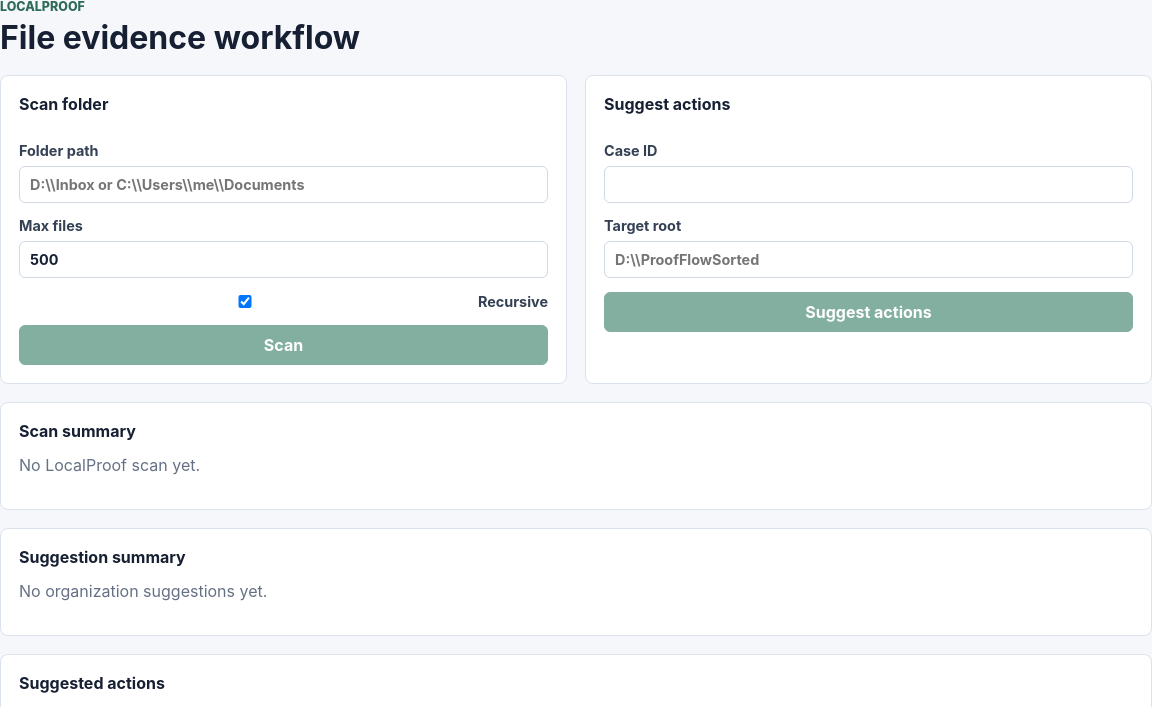
LocalProof › does not offer undo for executed manual check actions
Type "D:/inbox" into the field labelled "Folder path" at [284, 184], box [19, 166, 548, 203]
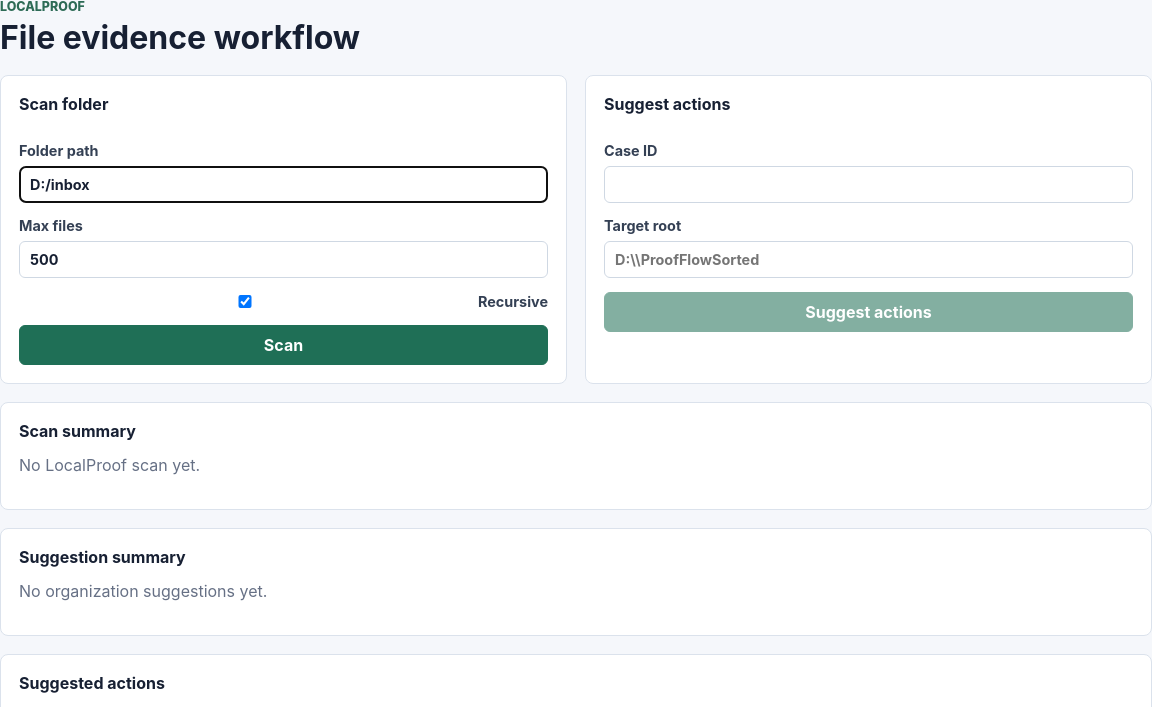
Click the button "Scan" at [284, 345], box [19, 325, 548, 365]
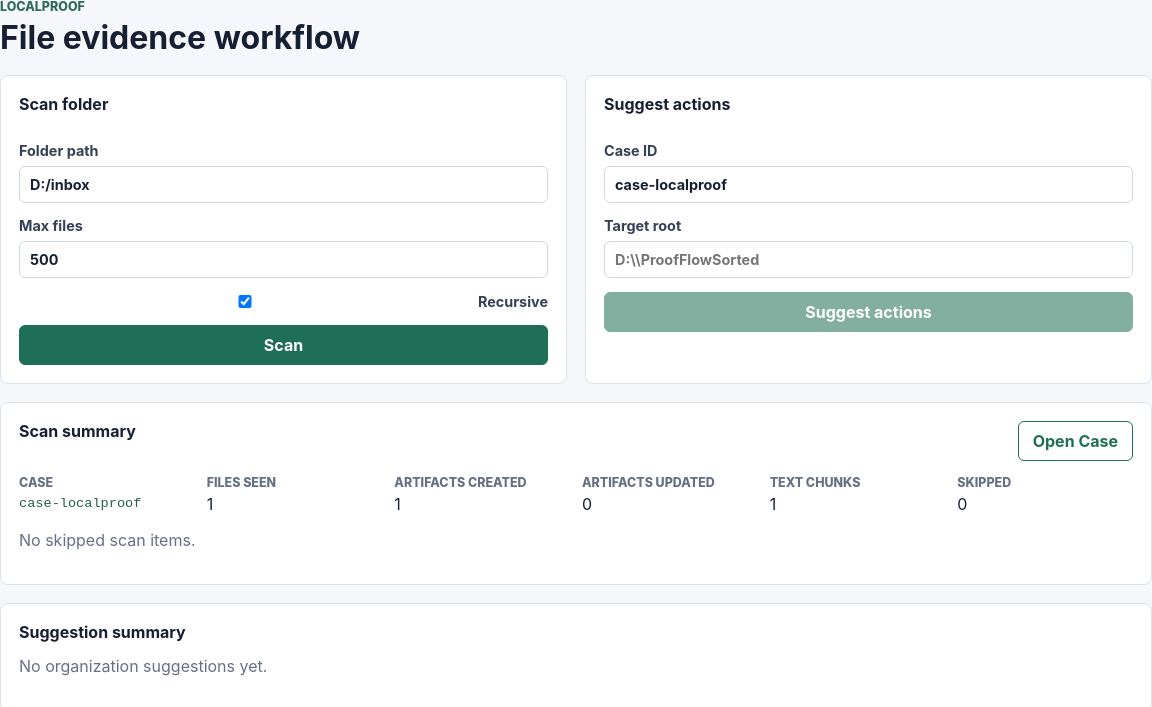
Type "D:/sorted" into the field labelled "Target root" at [868, 259], box [604, 241, 1133, 278]
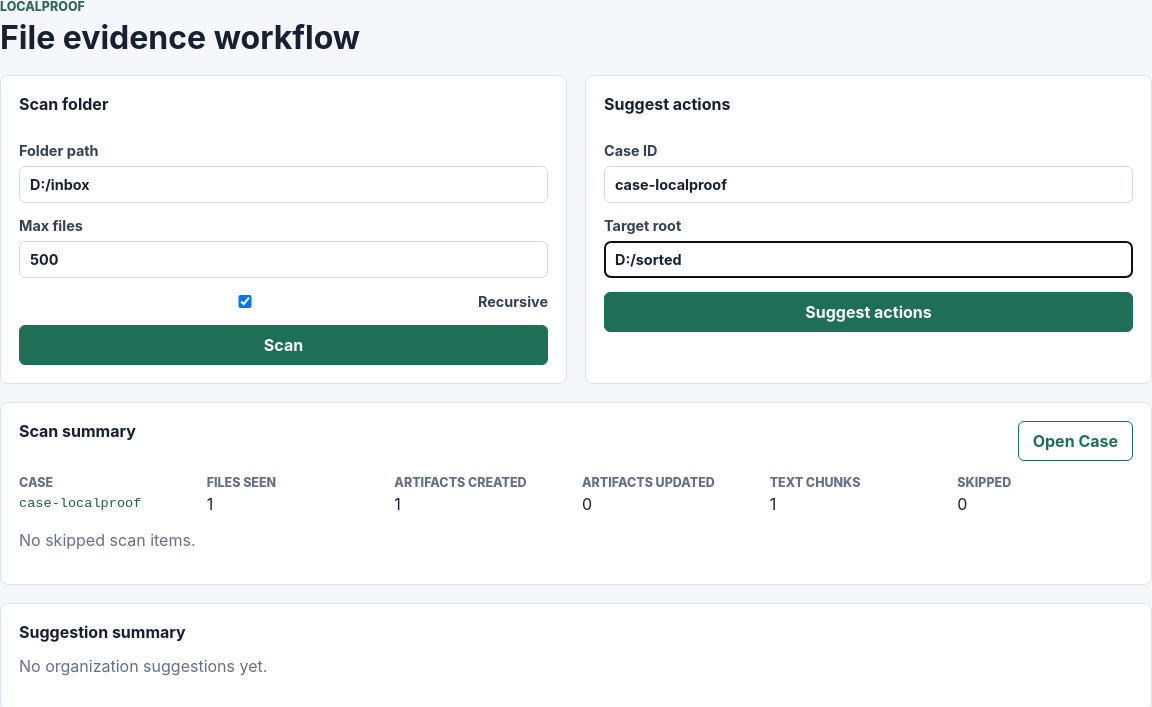
Click the button "Suggest actions" at [868, 312], box [604, 292, 1133, 332]
(page scrolled)
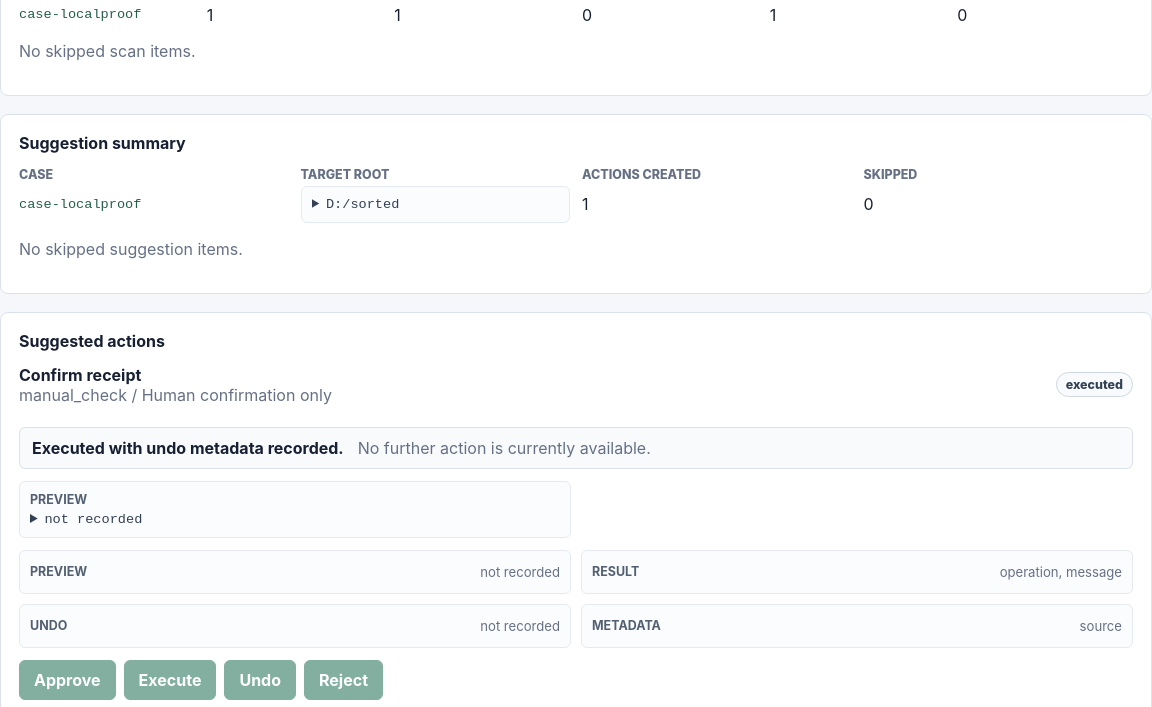
Expected: the text "Confirm receipt" is shown, [19, 365, 141, 385]
